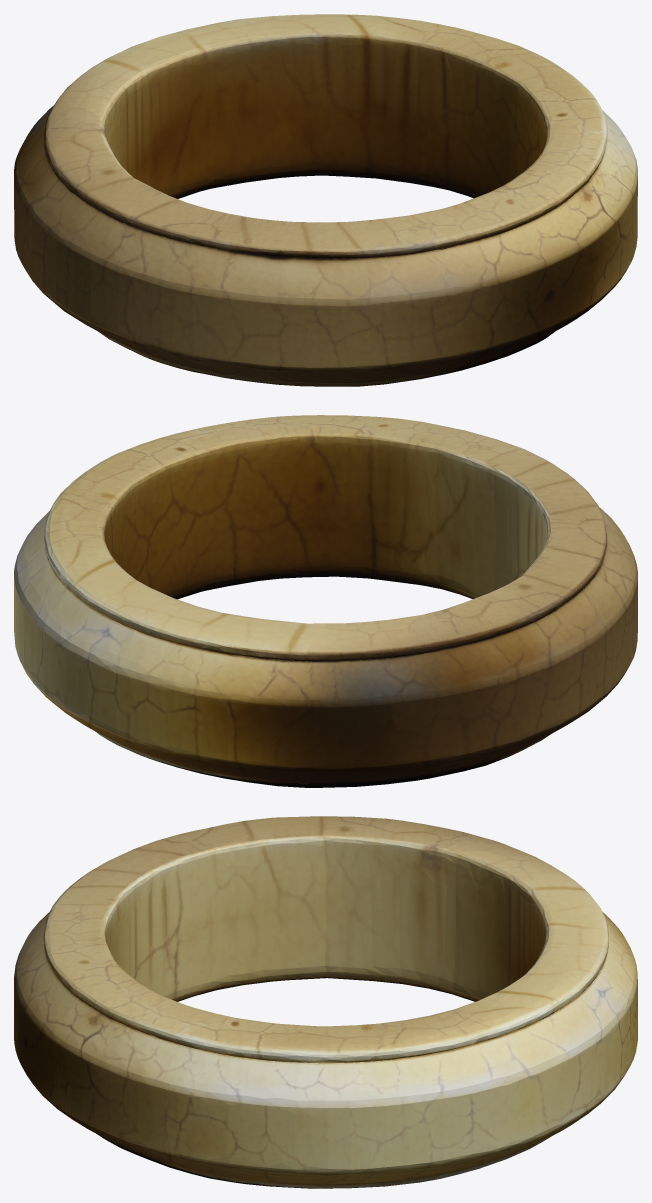
The model's file is cork-playing-card-holder-vintage.jpeg.glb.
The picture shows the model from 3 angles, top to bottom: view 1: azimuth 30°, elevation 25°; view 2: azimuth 150°, elevation 25°; view 3: azimuth 270°, elevation 25°; orthographic projection.
Parts seen in each view (by area): view 1: world; view 2: world; view 3: world.
Boxes of the visible parts, left/top/right/bottom form: world: left=14, top=14, right=637, bottom=386; world: left=14, top=415, right=637, bottom=787; world: left=14, top=816, right=637, bottom=1188.
Size of the model in its own units: 0.9998 by 0.2674 by 1.
Materials: 1 (1 with a texture image).
